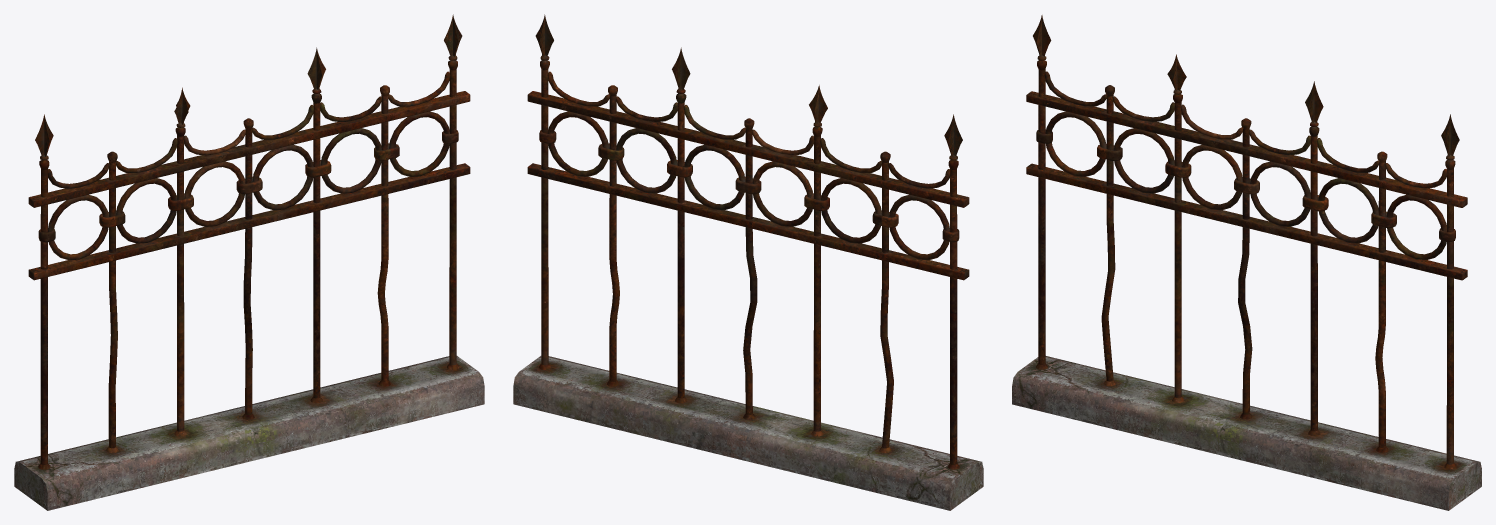
File: SM_fence_02.fbx
3 renders of one model, left to right at view 1: azimuth 30°, elevation 25°; view 2: azimuth 150°, elevation 25°; view 3: azimuth 330°, elevation 25°, orthographic.
Visible parts, largest first — view 1: SM_fence_02; view 2: SM_fence_02; view 3: SM_fence_02.
Part boxes in pixels (box(x1,y1,x2,y2)): SM_fence_02: box(14, 14, 484, 510); SM_fence_02: box(513, 14, 983, 510); SM_fence_02: box(1012, 15, 1481, 510).
Size of the model in its own units: 97.07 by 81.05 by 12.76.
